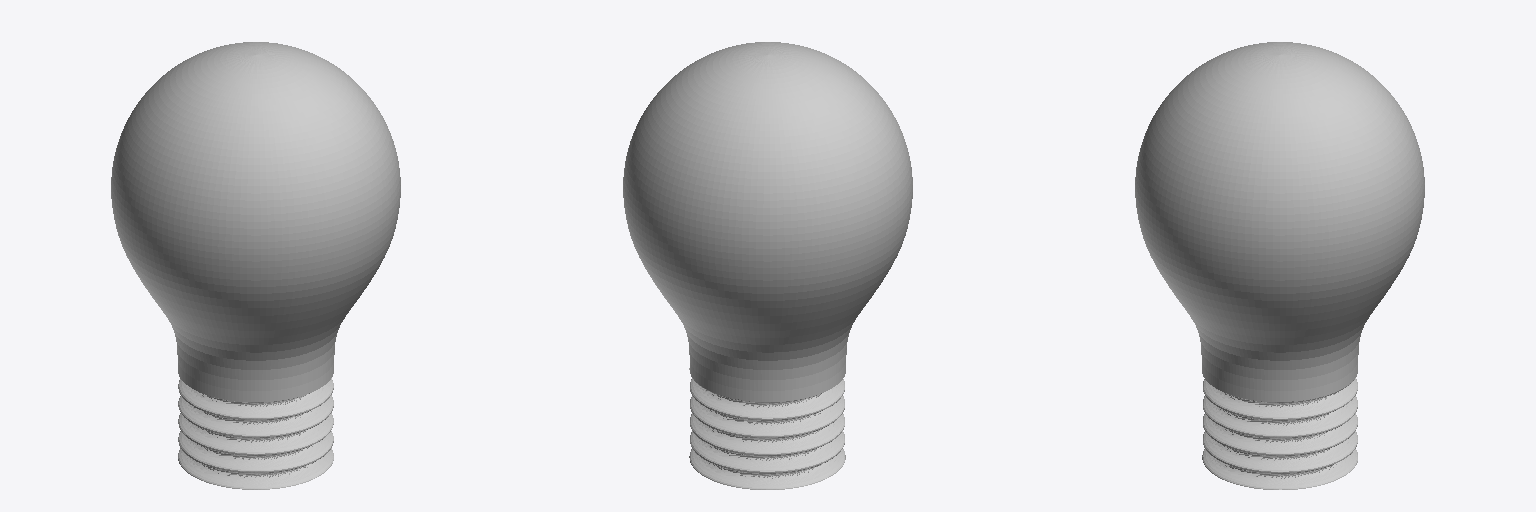
File: bulb.obj
The picture shows the model from 3 angles: view 1: azimuth 30°, elevation 25°; view 2: azimuth 150°, elevation 25°; view 3: azimuth 270°, elevation 25°; orthographic projection.
Parts seen in each view (by area): view 1: Cylinder; view 2: Cylinder; view 3: Cylinder.
Part boxes in pixels (x1,y1,x2,y2): Cylinder: (111, 42, 400, 489); Cylinder: (623, 42, 912, 489); Cylinder: (1135, 42, 1424, 489).
Bounding box in the file's own units: 1.98 × 3.03 × 1.98.